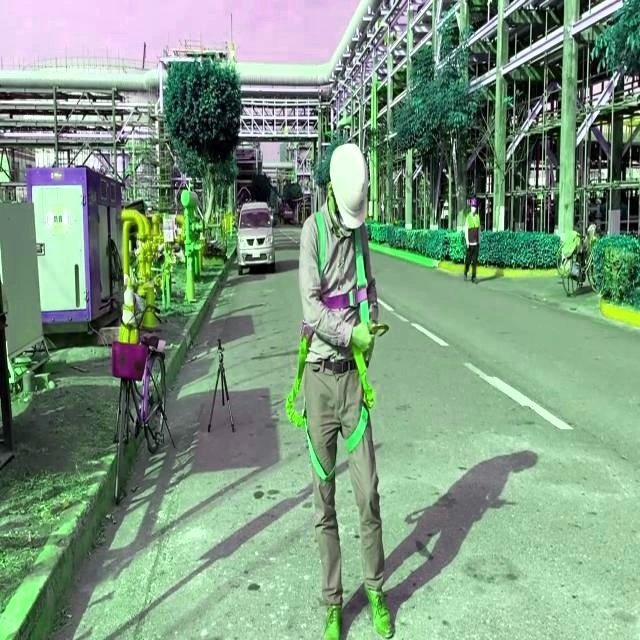safety belt: (267, 195, 395, 472)
